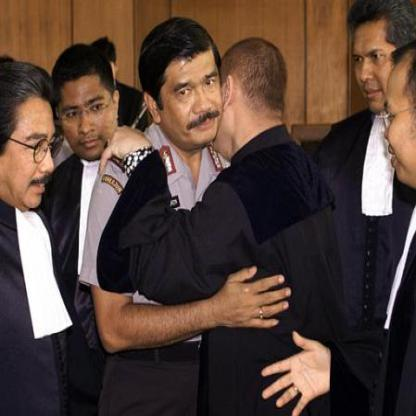face: (154, 18, 225, 151), (1, 80, 65, 212), (351, 2, 408, 117), (57, 54, 115, 161)
